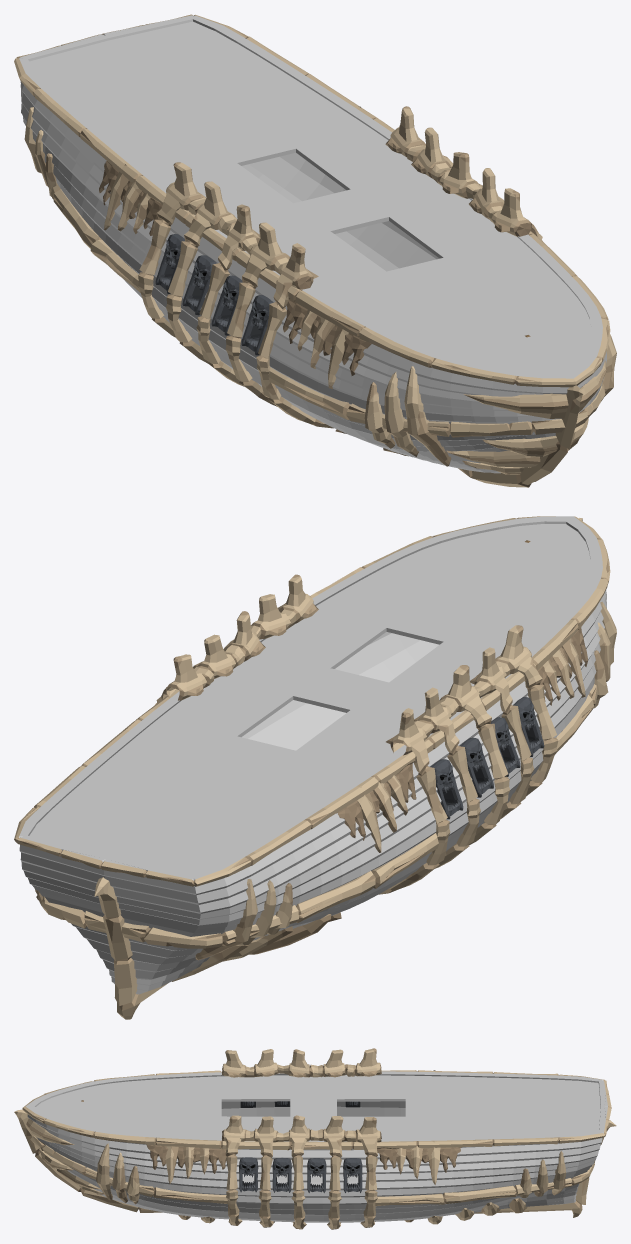
File: SM_Veh_Ship_L_Hull_03.fbx
3 views of the same model, one above another, from view 1: azimuth 30°, elevation 25°; view 2: azimuth 150°, elevation 25°; view 3: azimuth 270°, elevation 25° (orthographic). The views are drawn at different scales.
Visible parts, largest first — view 1: SM_Veh_Ship_L_Hull_03; view 2: SM_Veh_Ship_L_Hull_03; view 3: SM_Veh_Ship_L_Hull_03.
Boxes of the visible parts, x1,y1,x2,y2 form: SM_Veh_Ship_L_Hull_03: (14,14,616,487); SM_Veh_Ship_L_Hull_03: (14,516,616,1019); SM_Veh_Ship_L_Hull_03: (14,1048,616,1229).
Size of the model in its own units: 1367 by 913 by 3710.
